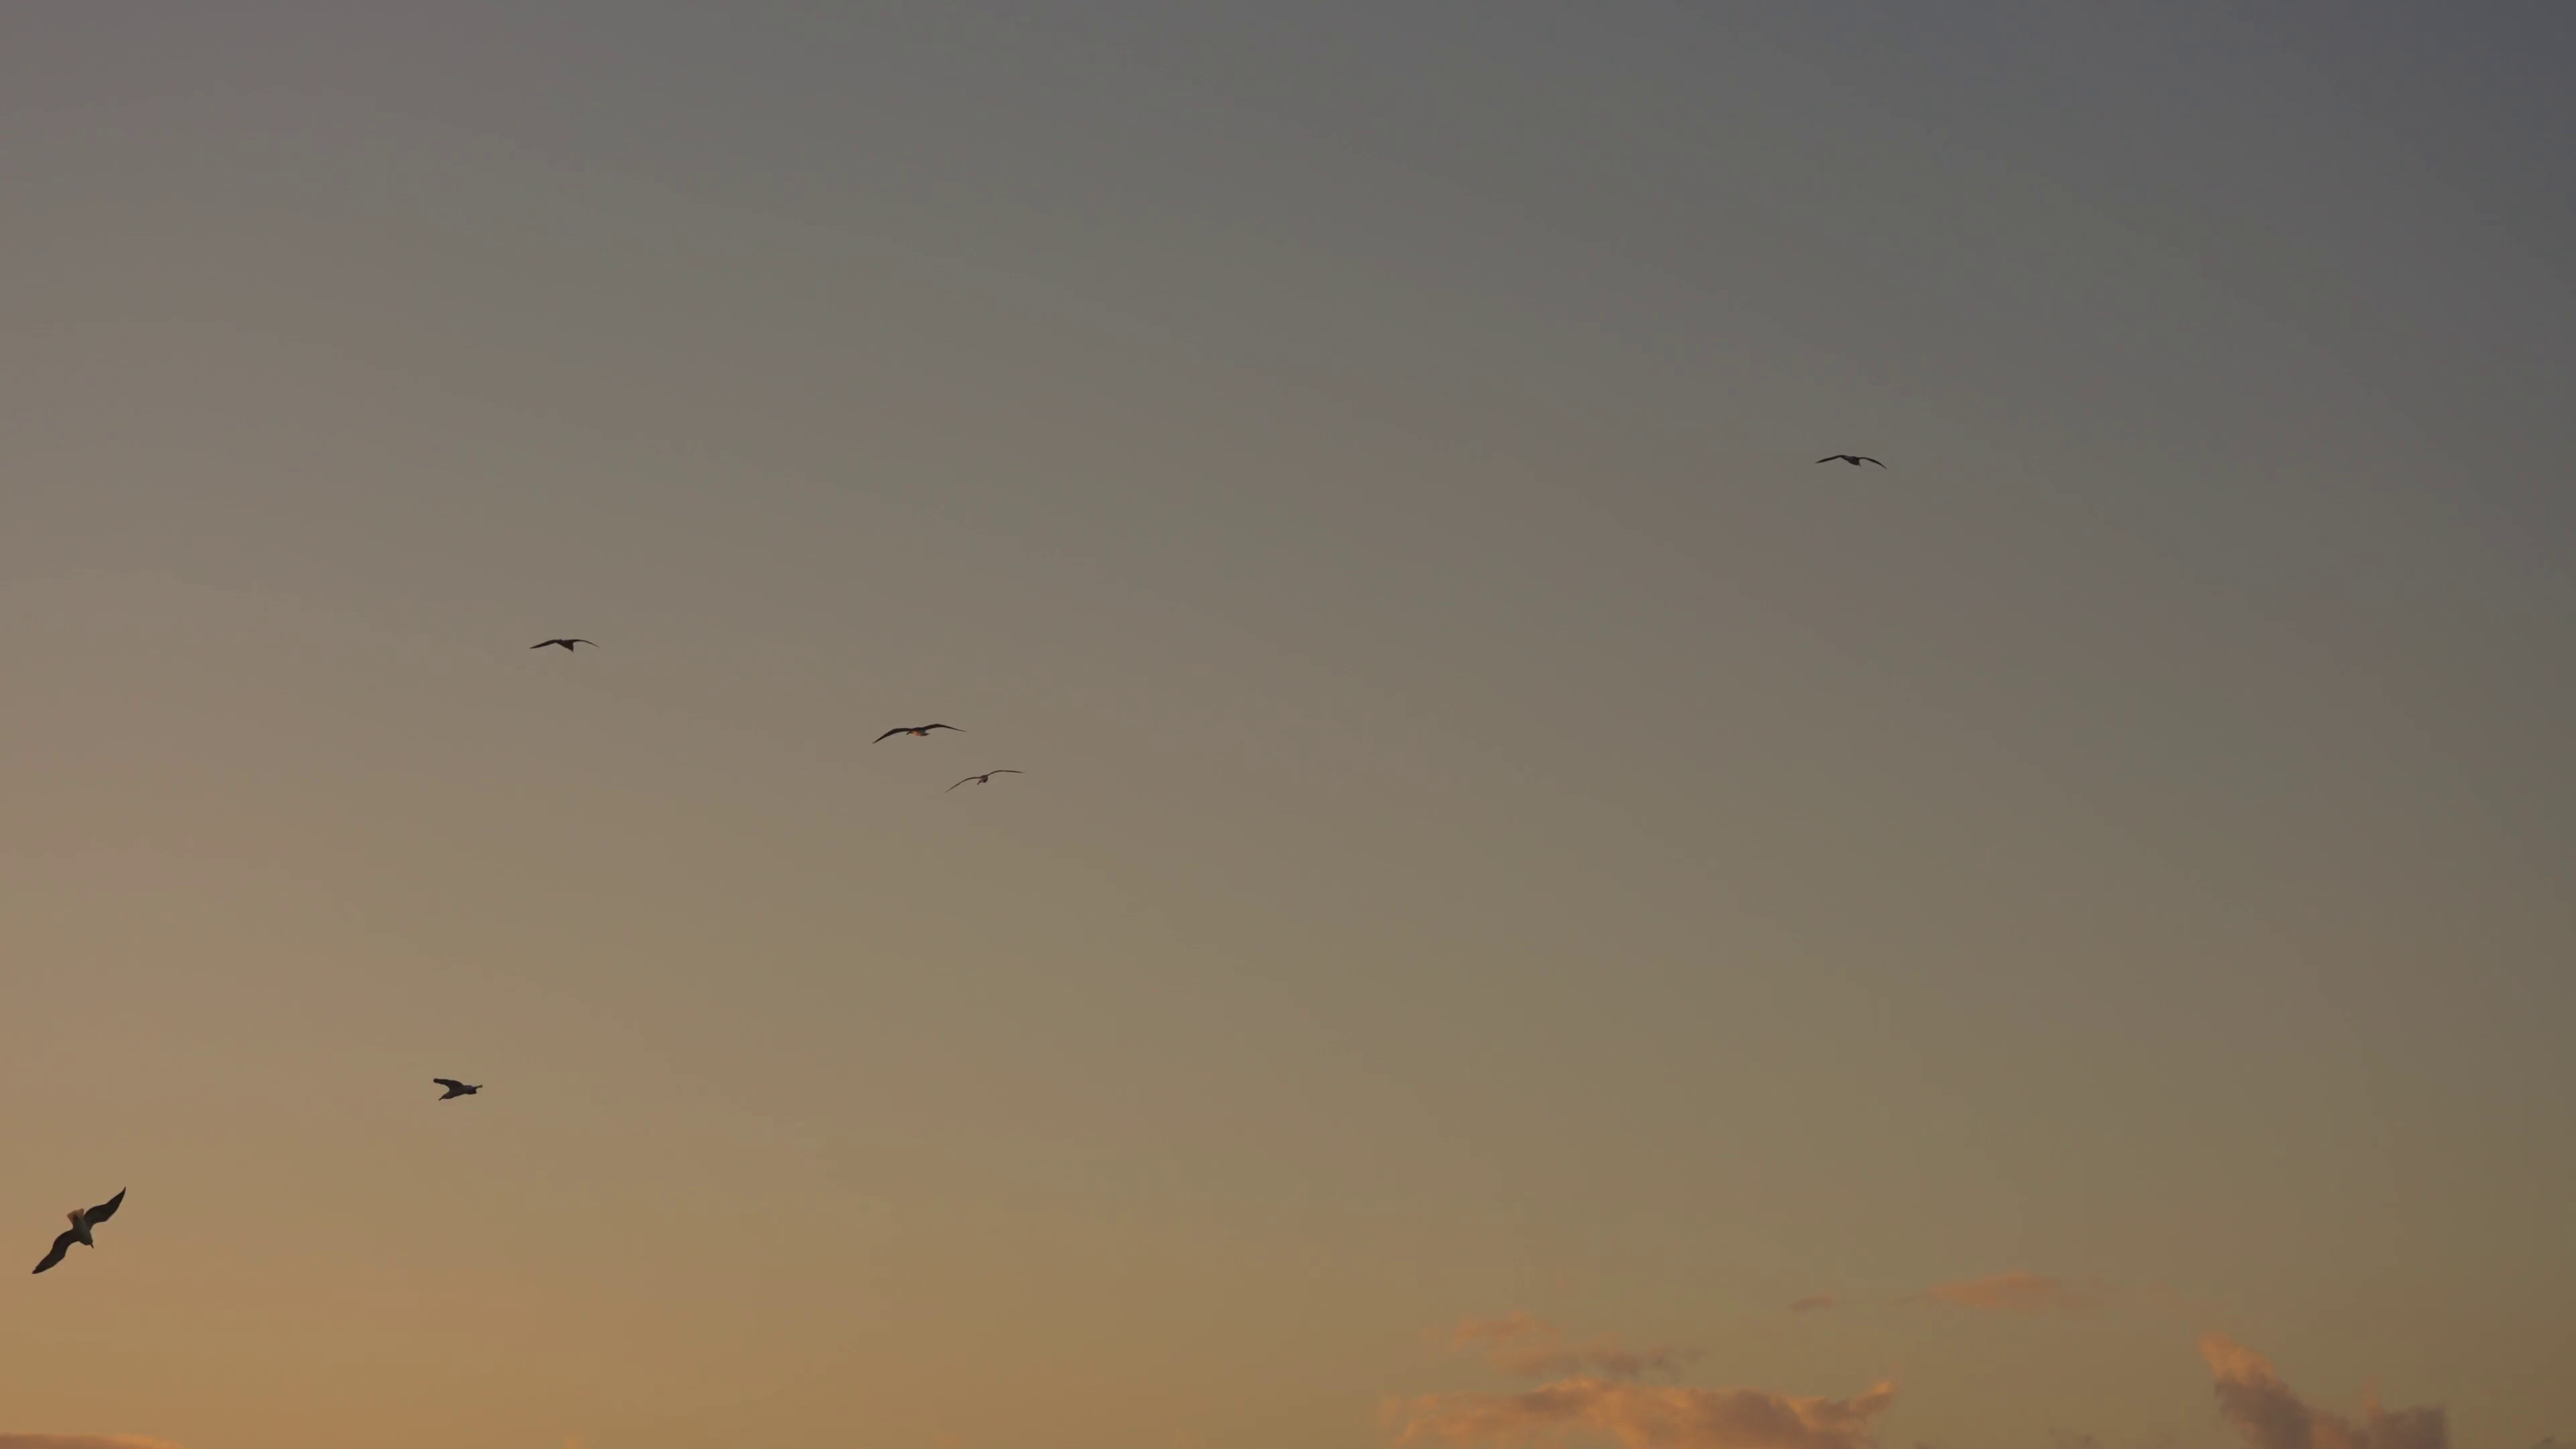bird: (30, 1191, 126, 1276), (874, 722, 964, 747), (947, 761, 1021, 791), (433, 1069, 481, 1108), (527, 635, 598, 658), (1819, 446, 1884, 471)
